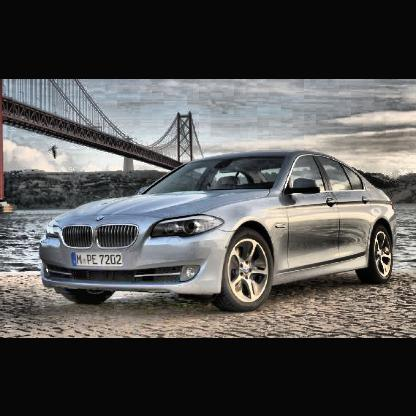BMW ActiveHybrid 5 Sedan 2012: (39, 148, 397, 315)
